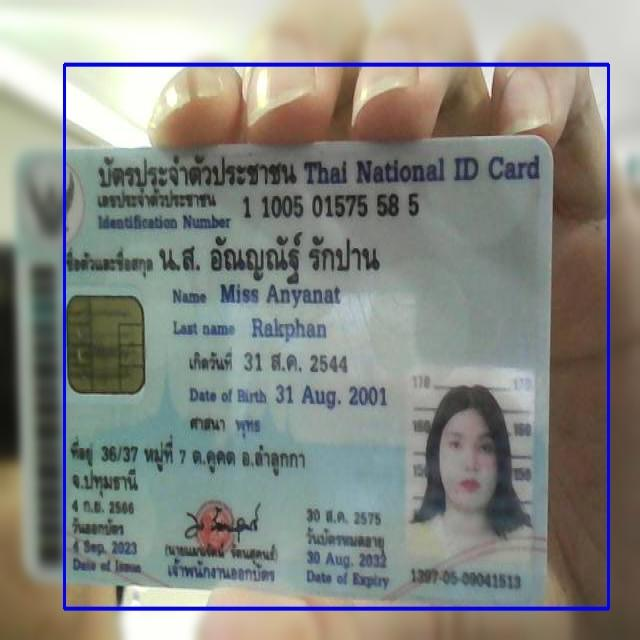Address_th: (64, 429, 313, 498)
Date_of_Birth: (272, 378, 390, 414)
Date_of_Expiry: (302, 546, 392, 575)
Date_of_Issue: (69, 537, 143, 560)
First_Name: (216, 279, 343, 311)
ID_Number: (239, 188, 424, 224)
Image: (406, 366, 532, 567)
Last_Name: (248, 313, 330, 346)
Thai_Name: (154, 226, 395, 284)
